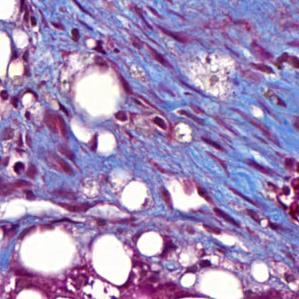steatosis: (136, 232, 165, 258)
